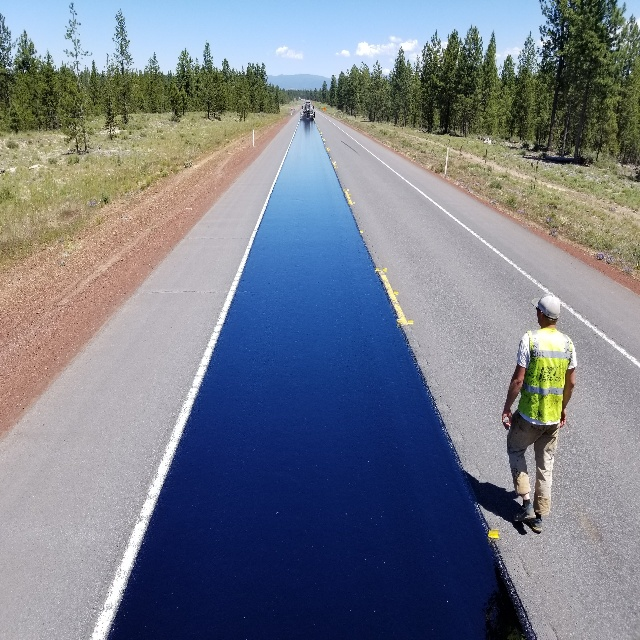Sin_guantes: (501, 408, 512, 430), (559, 408, 567, 428)
